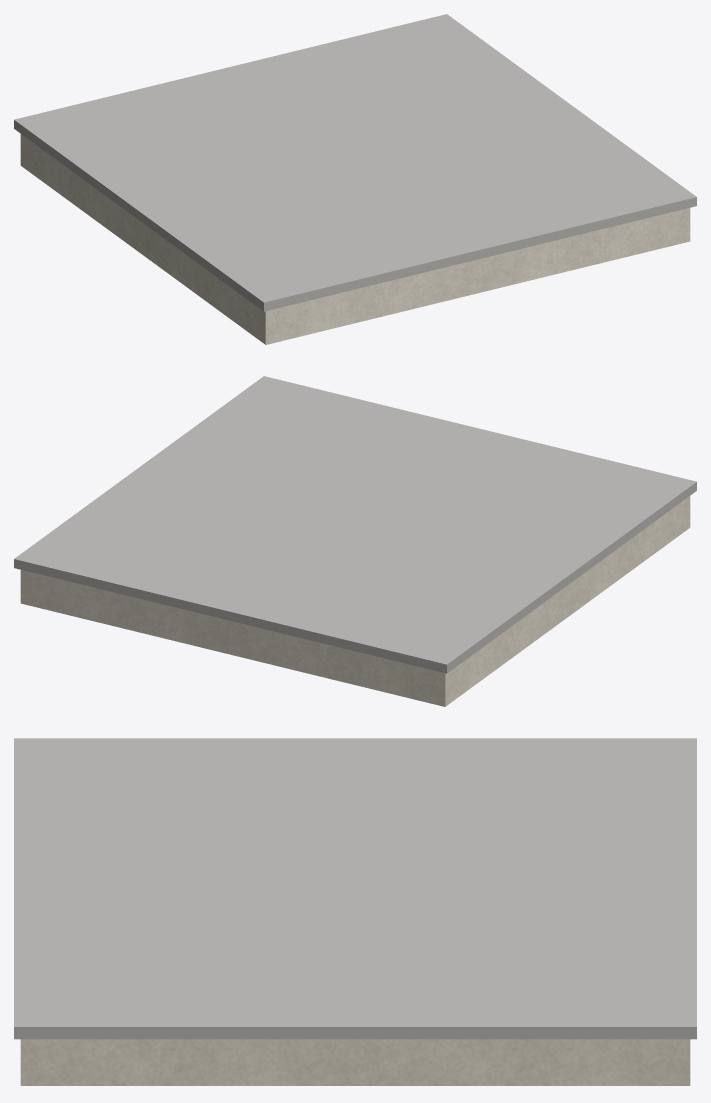
Rendered from roof_tile.glb.
3 renders of one model, top to bottom at view 1: azimuth 30°, elevation 25°; view 2: azimuth 150°, elevation 25°; view 3: azimuth 270°, elevation 25°, orthographic. The views are drawn at different scales.
Visible parts, largest first — view 1: roof_tile_roof, roof_tile_plaster; view 2: roof_tile_roof, roof_tile_plaster; view 3: roof_tile_roof, roof_tile_plaster.
Boxes of the visible parts, x1,y1,x2,y2 form: roof_tile_roof: (14,14,696,311); roof_tile_plaster: (20,134,690,344); roof_tile_roof: (14,376,696,673); roof_tile_plaster: (20,496,690,706); roof_tile_roof: (14,738,696,1039); roof_tile_plaster: (20,1039,690,1085).
Bounding box in the file's own units: 2 × 0.2 × 2.
2 materials, 1 textured.
